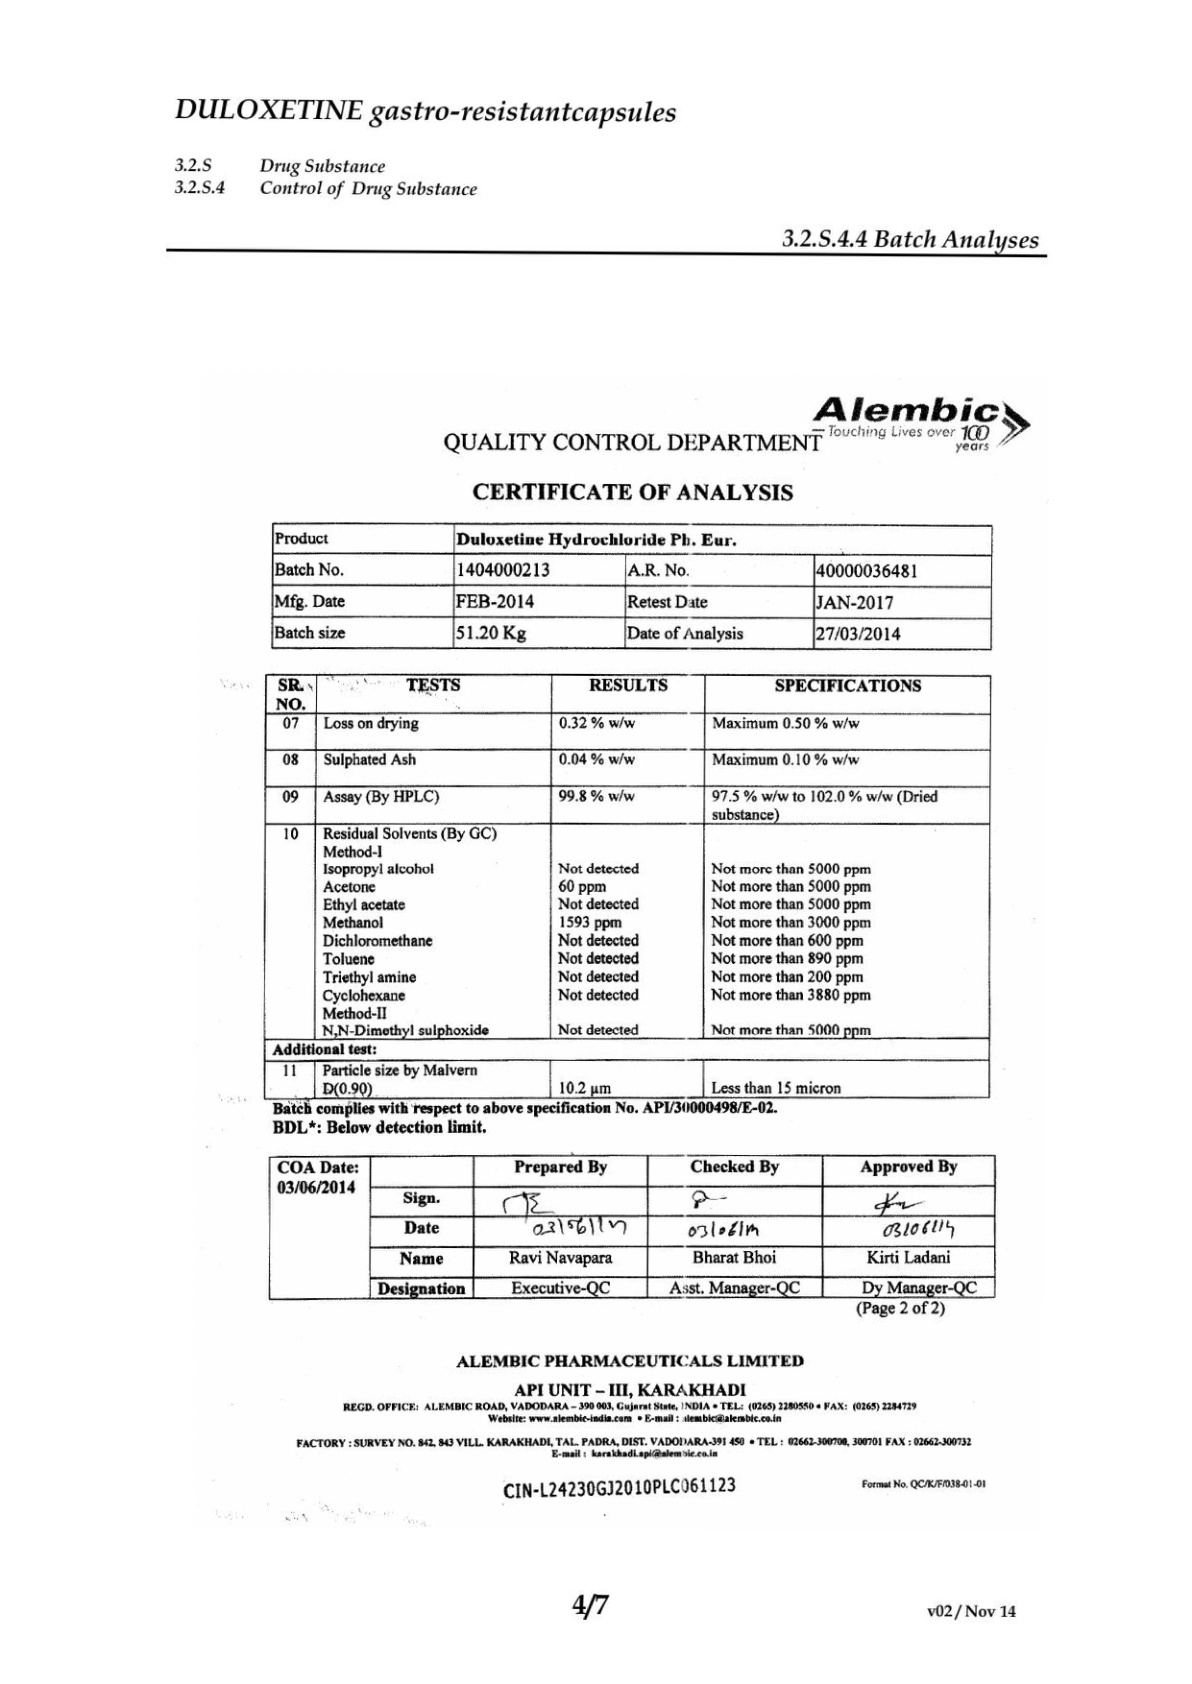merged_cells: (262, 672, 992, 1100), (267, 1151, 997, 1300), (270, 521, 995, 652)
